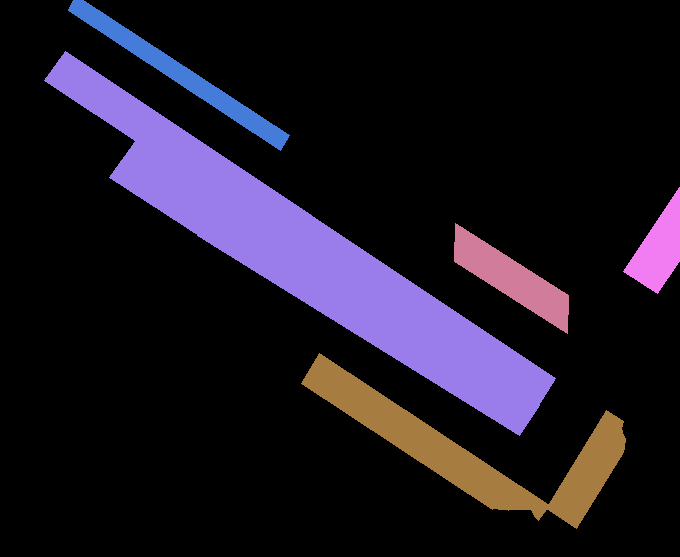parkingspot: (44, 51, 555, 407), (197, 195, 539, 435), (301, 353, 549, 520), (68, 0, 289, 150), (454, 223, 568, 333), (109, 138, 229, 238), (546, 410, 625, 528), (623, 186, 680, 293)
